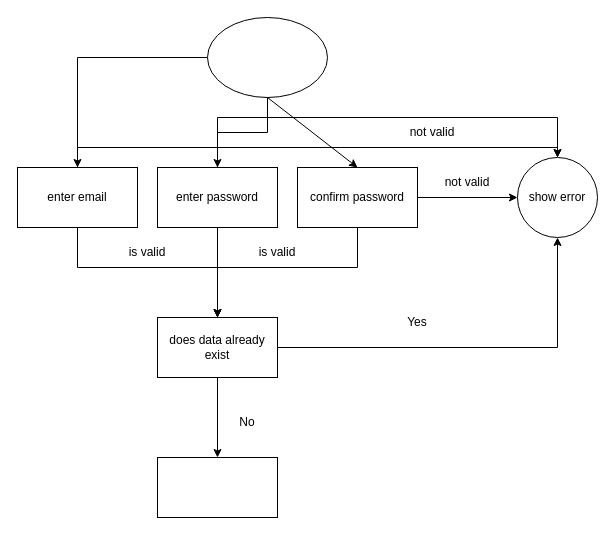
Some shapes in this 615 by 535 pixel diagram are drawn without their labels. The shapes that lost their labels are listed below. From the top down, each one's centre as x and y in pixels, then its label:
pixel 267 57: sign-up
pixel 217 487: store data
